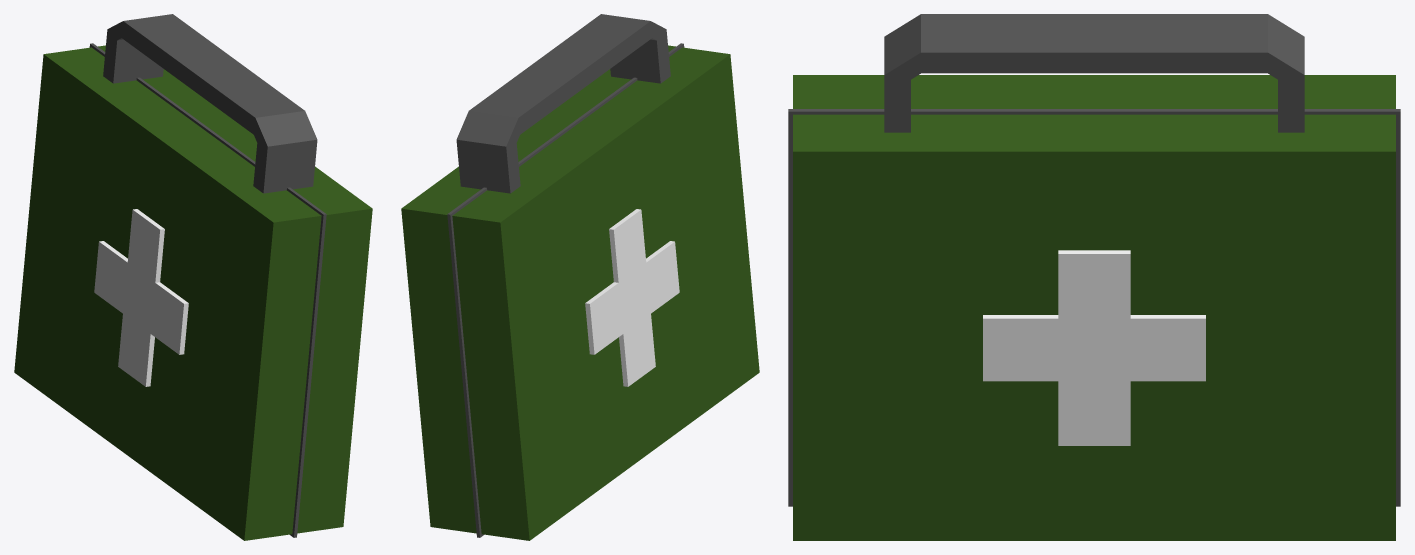
Rendered from medkit.gltf.
3 views of the same model, side by side, from view 1: azimuth 30°, elevation 25°; view 2: azimuth 150°, elevation 25°; view 3: azimuth 270°, elevation 25° (orthographic). The views are drawn at different scales.
Visible parts, largest first — view 1: Medkit1; view 2: Medkit1; view 3: Medkit1.
Boxes of the visible parts, x1,y1,x2,y2 form: Medkit1: [14, 14, 372, 540]; Medkit1: [401, 14, 759, 540]; Medkit1: [788, 14, 1400, 540].
Size of the model in its own units: 1.29 by 3.67 by 4.06.
